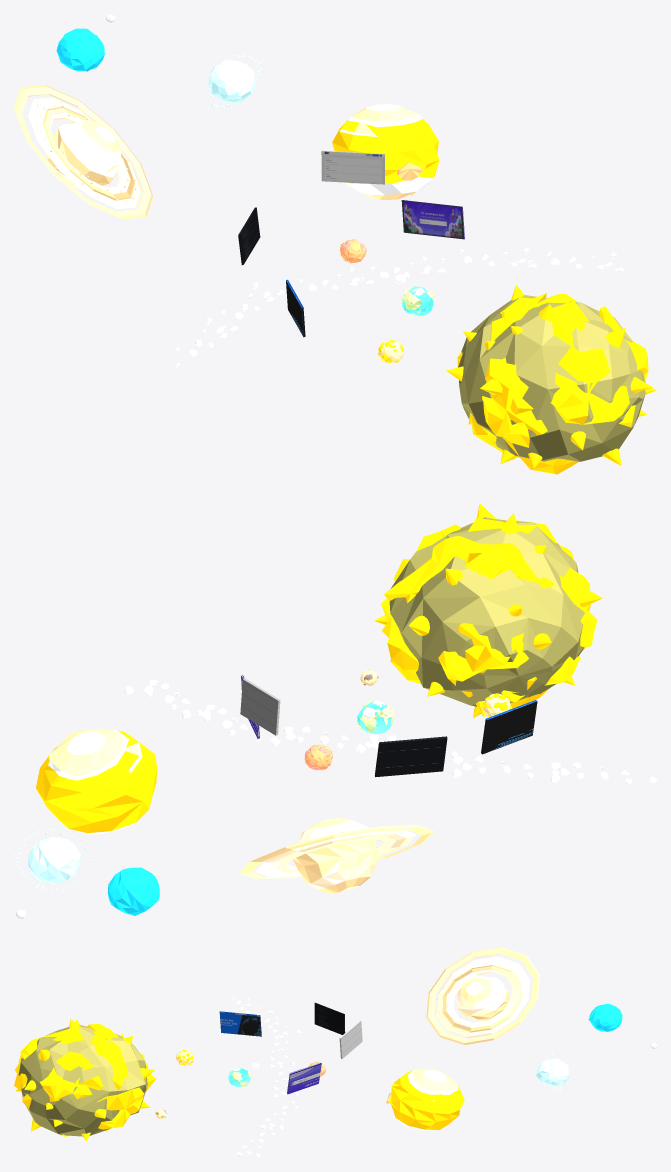
Rendered from space.gltf.
3 views of the same model, one above another, from view 1: azimuth 30°, elevation 25°; view 2: azimuth 150°, elevation 25°; view 3: azimuth 270°, elevation 25° (orthographic). The views are drawn at different scales.
Parts seen in each view (by area): view 1: model, Tracker.004, Tracker.002, Tracker.003; view 2: model, Tracker.003, Tracker.006, Tracker.002; view 3: model, Tracker.006, Tracker.004, Tracker.003, Tracker.002.
Boxes of the visible parts, x1,y1,x2,y2 form: model: [14, 14, 656, 474]; Tracker.004: [401, 200, 464, 239]; Tracker.002: [321, 150, 384, 184]; Tracker.003: [238, 207, 260, 264]; model: [14, 503, 656, 918]; Tracker.003: [375, 736, 447, 777]; Tracker.006: [481, 700, 537, 754]; Tracker.002: [240, 678, 280, 735]; model: [14, 947, 656, 1157]; Tracker.006: [219, 1011, 261, 1036]; Tracker.004: [287, 1062, 321, 1094]; Tracker.003: [314, 1002, 345, 1034]; Tracker.002: [339, 1020, 362, 1058].
Size of the model in its own units: 61.55 by 22.29 by 113.
Materials: 19 (4 with a texture image).
